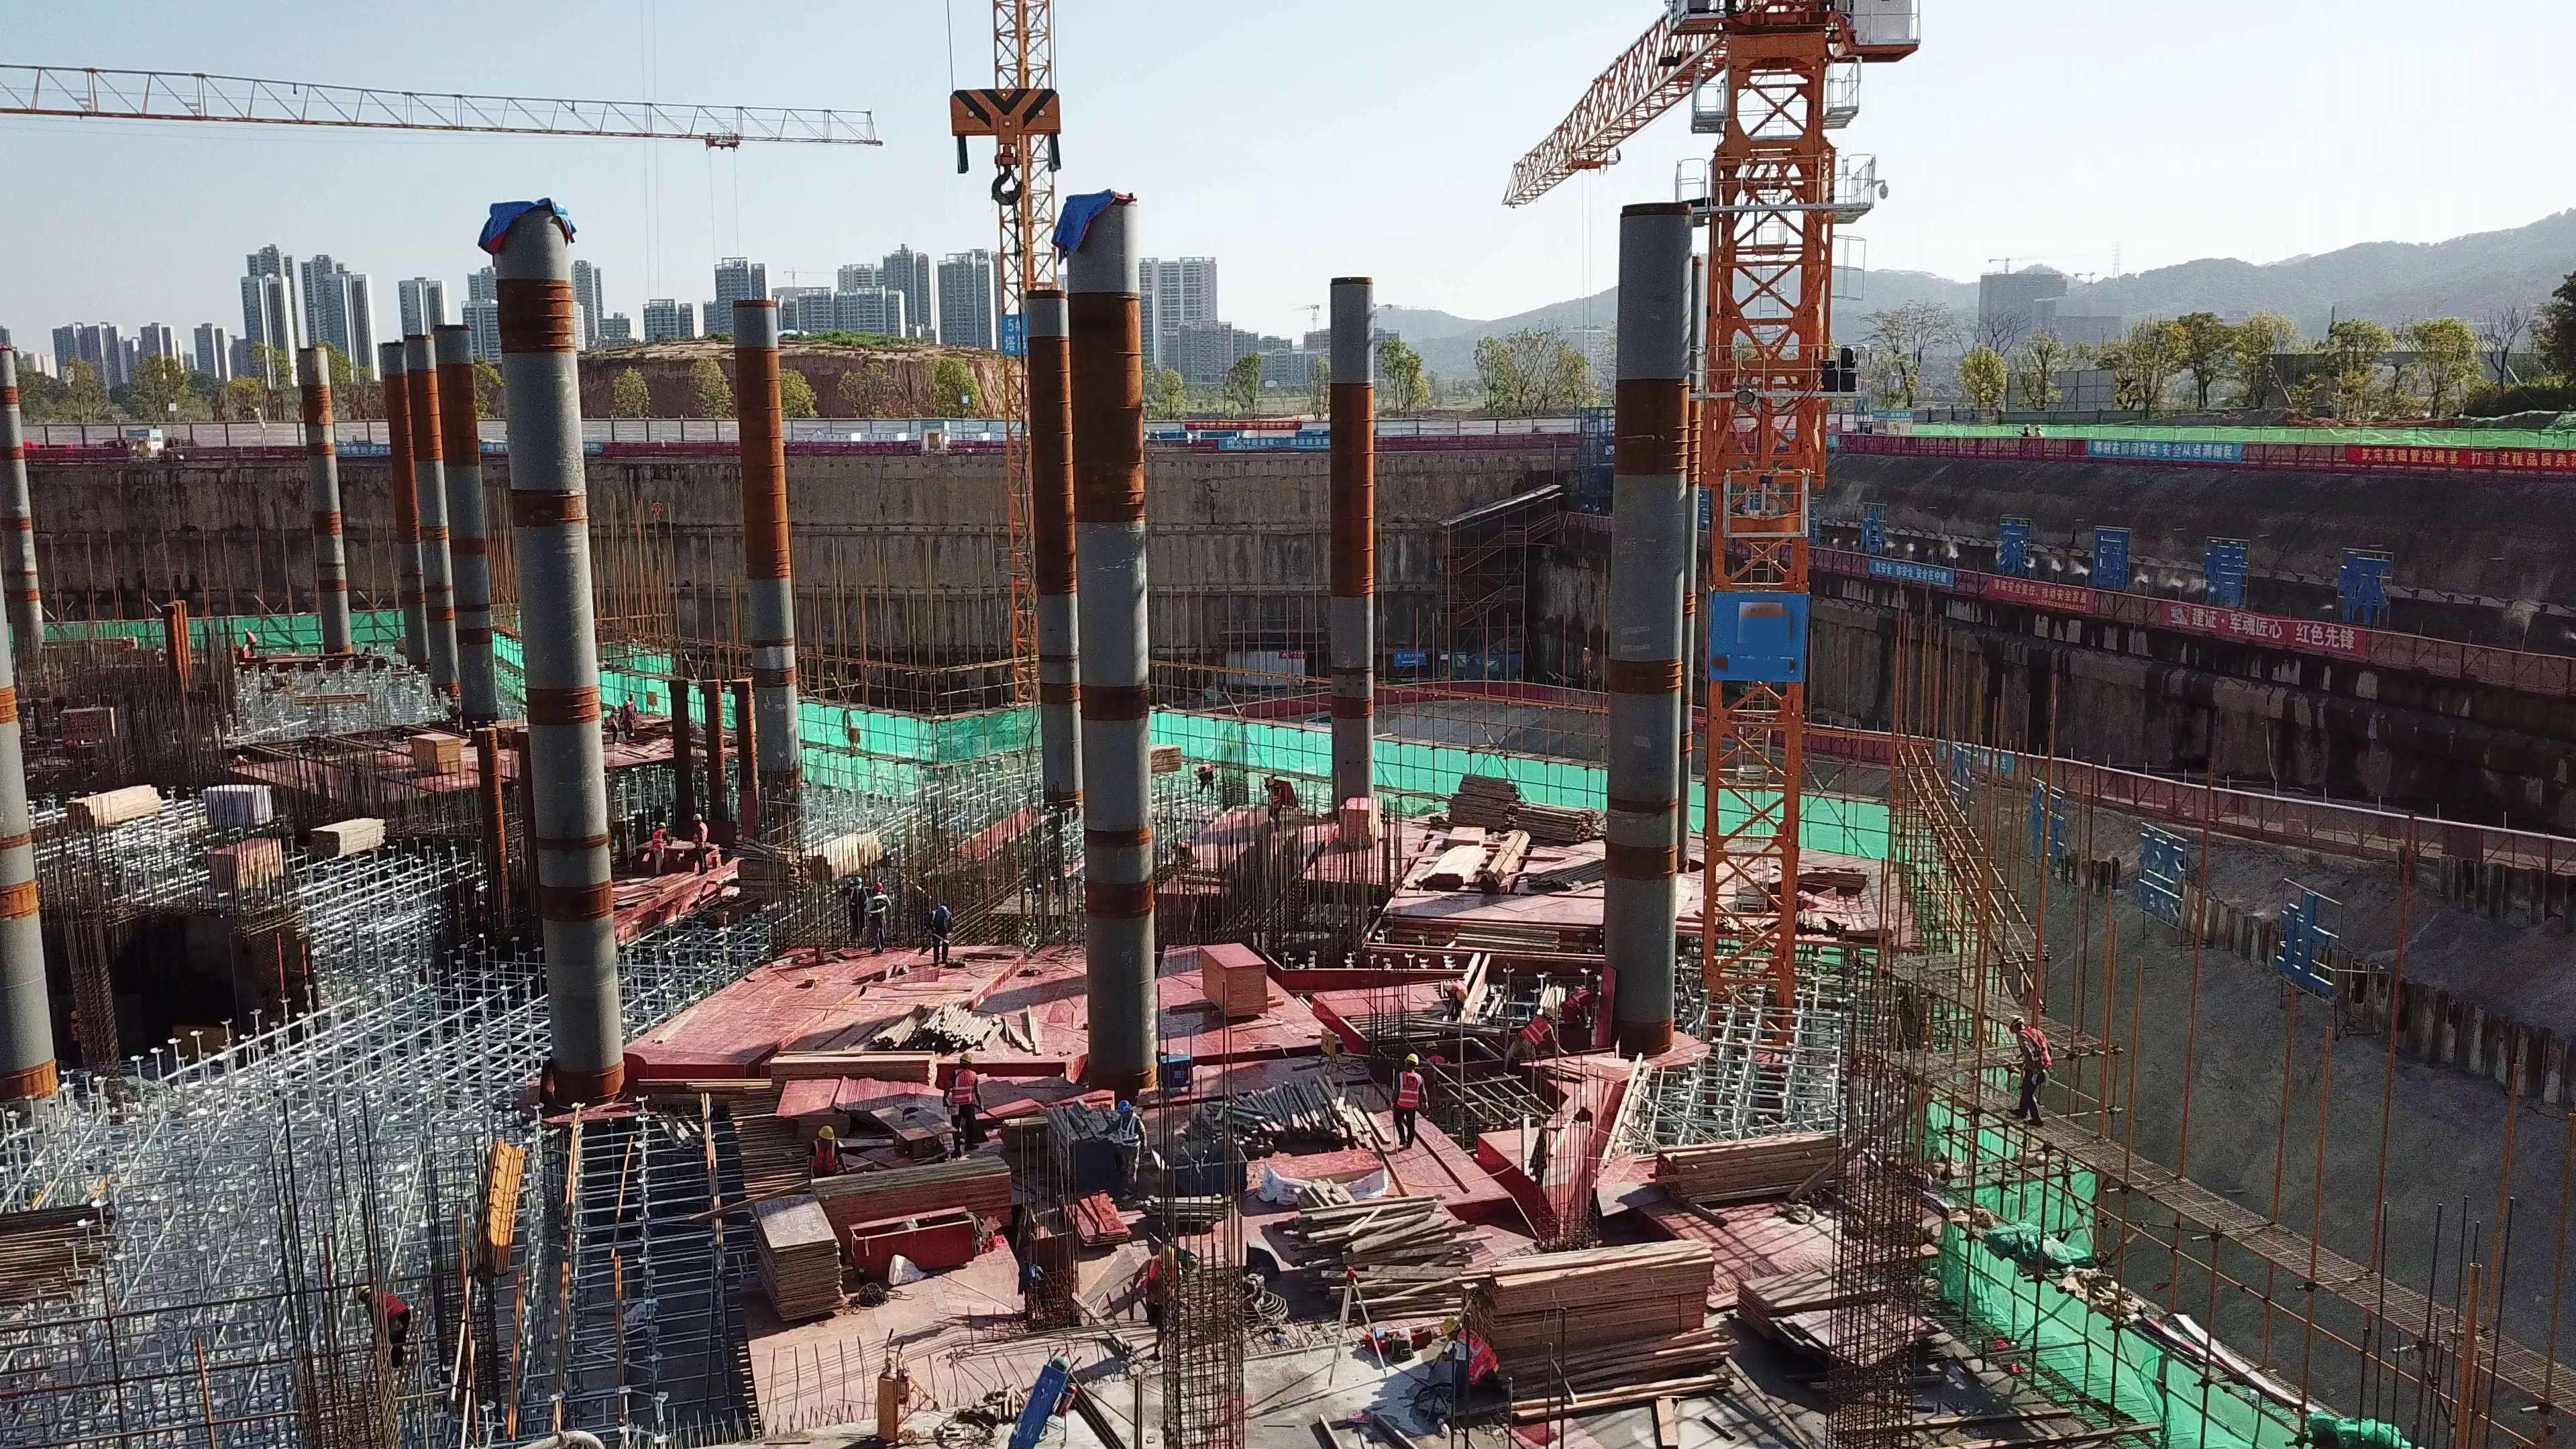board: (755, 1198, 837, 1319), (778, 1073, 921, 1117), (1200, 939, 1265, 1019), (212, 836, 282, 900), (409, 731, 463, 780), (1344, 796, 1379, 845)
fence: (2335, 806, 2563, 869), (21, 421, 314, 464), (2398, 637, 2567, 693), (779, 419, 1012, 458), (1824, 429, 2091, 462), (1374, 420, 1584, 449), (572, 419, 739, 455), (331, 420, 390, 460), (472, 417, 517, 459)
helmet: (349, 1282, 372, 1302), (1157, 1250, 1178, 1269), (1438, 1316, 1458, 1333), (1403, 1052, 1422, 1067), (816, 1124, 835, 1138), (2007, 1013, 2026, 1026), (959, 1053, 974, 1063), (1426, 1039, 1439, 1051), (1544, 1007, 1556, 1019), (692, 812, 702, 823), (658, 820, 667, 826)
hook: (949, 85, 1065, 195)
person: (1436, 1313, 1508, 1408), (355, 1281, 412, 1363), (1386, 1055, 1431, 1154), (1136, 1250, 1177, 1357), (2008, 1013, 2045, 1120), (941, 1057, 982, 1152), (1511, 1005, 1560, 1063), (802, 1126, 849, 1175), (1558, 985, 1597, 1029), (866, 885, 891, 949), (1265, 775, 1290, 838), (928, 900, 953, 965), (843, 877, 863, 944), (692, 808, 712, 874), (651, 817, 670, 876), (1194, 763, 1218, 796)
slogan: (1955, 771, 2334, 981), (1827, 516, 2402, 655), (2339, 444, 2576, 484), (2074, 425, 2241, 473), (1183, 421, 1326, 456)
vest: (1461, 1330, 1496, 1381), (2019, 1031, 2055, 1073), (1393, 1072, 1424, 1116), (369, 1288, 404, 1325), (812, 1140, 841, 1178), (951, 1069, 975, 1108), (1563, 989, 1589, 1015), (1520, 1018, 1549, 1044), (869, 895, 890, 924), (932, 905, 949, 937), (690, 824, 707, 846), (651, 830, 667, 853), (1266, 791, 1280, 812)
wood: (1464, 1246, 1711, 1382), (1292, 1190, 1471, 1307), (1672, 1144, 1849, 1214), (1201, 1095, 1350, 1159), (1456, 783, 1587, 847), (70, 785, 168, 823), (807, 837, 881, 872)
